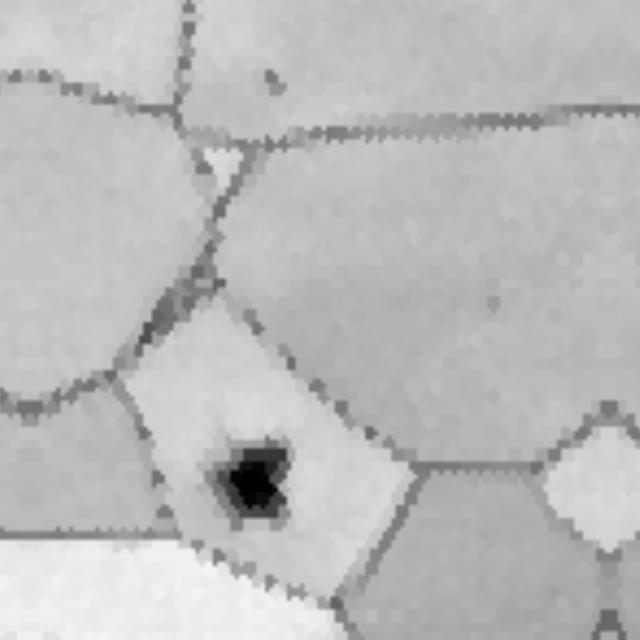good_void: (186, 416, 302, 541), (245, 57, 295, 108), (472, 281, 512, 324)
